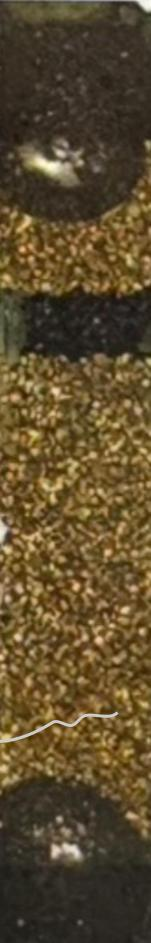blackline: (0, 711, 119, 743)
